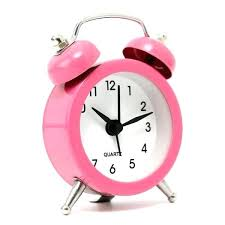alarm_clock: (41, 18, 183, 213), (49, 18, 183, 213)
